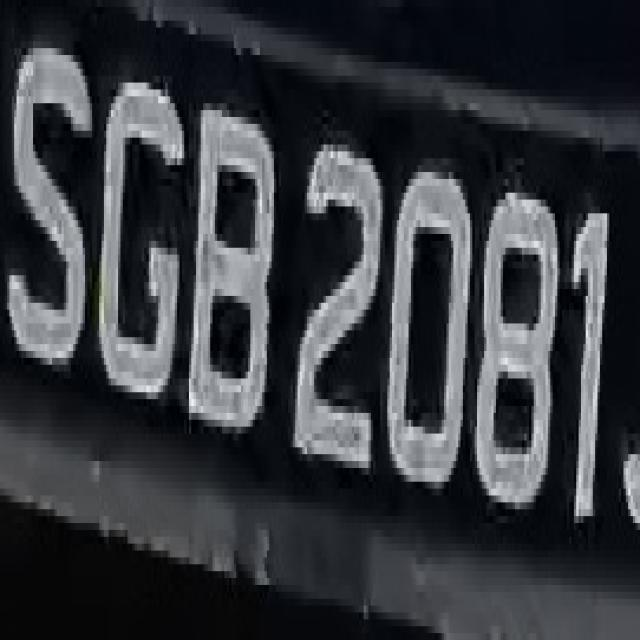0: (388, 124, 472, 509)
1: (562, 172, 607, 564)
2: (288, 110, 373, 482)
8: (470, 165, 560, 551)
B: (194, 69, 274, 468)
G: (97, 41, 182, 427)
S: (10, 7, 94, 392)
